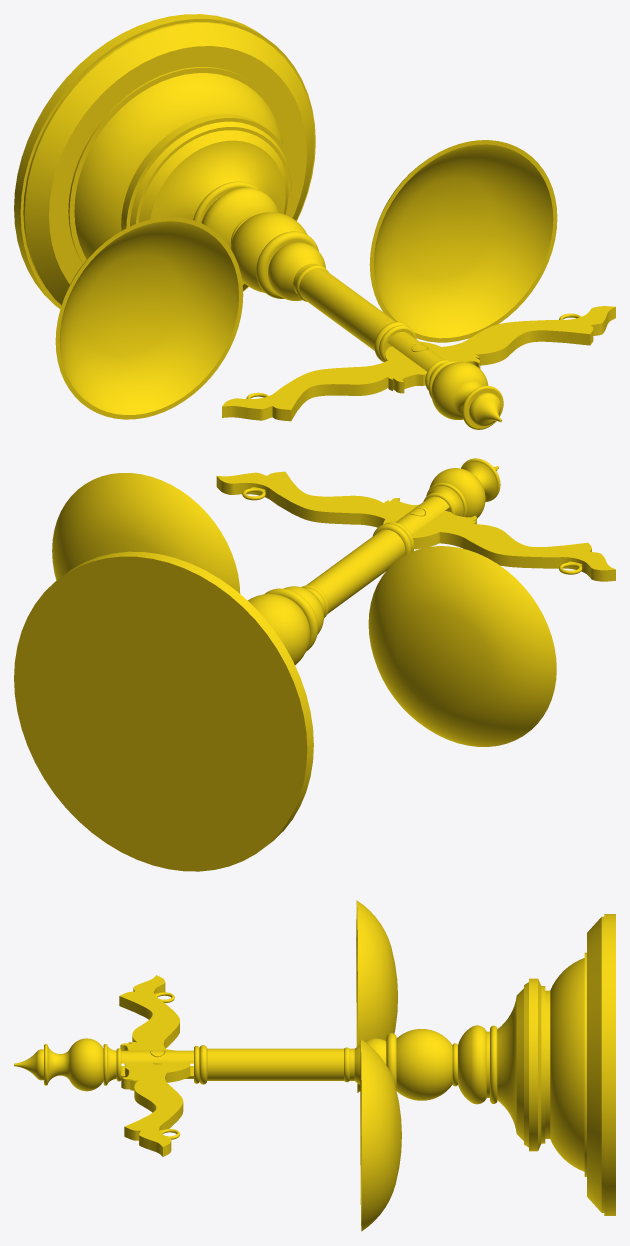
The model's file is cad4.gltf.
The picture shows the model from 3 angles, top to bottom: view 1: azimuth 30°, elevation 25°; view 2: azimuth 150°, elevation 25°; view 3: azimuth 270°, elevation 25°; orthographic projection. The views are drawn at different scales.
Visible parts, largest first — view 1: Part 1 (×4); view 2: Part 1 (×4); view 3: Part 1 (×4).
Boxes of the visible parts, <box> form: Part 1 (×4): <box>14,14,615,429</box>; Part 1 (×4): <box>14,458,615,871</box>; Part 1 (×4): <box>14,900,615,1231</box>.
Size of the model in its own units: 0.0942 by 0.055 by 0.1097.
